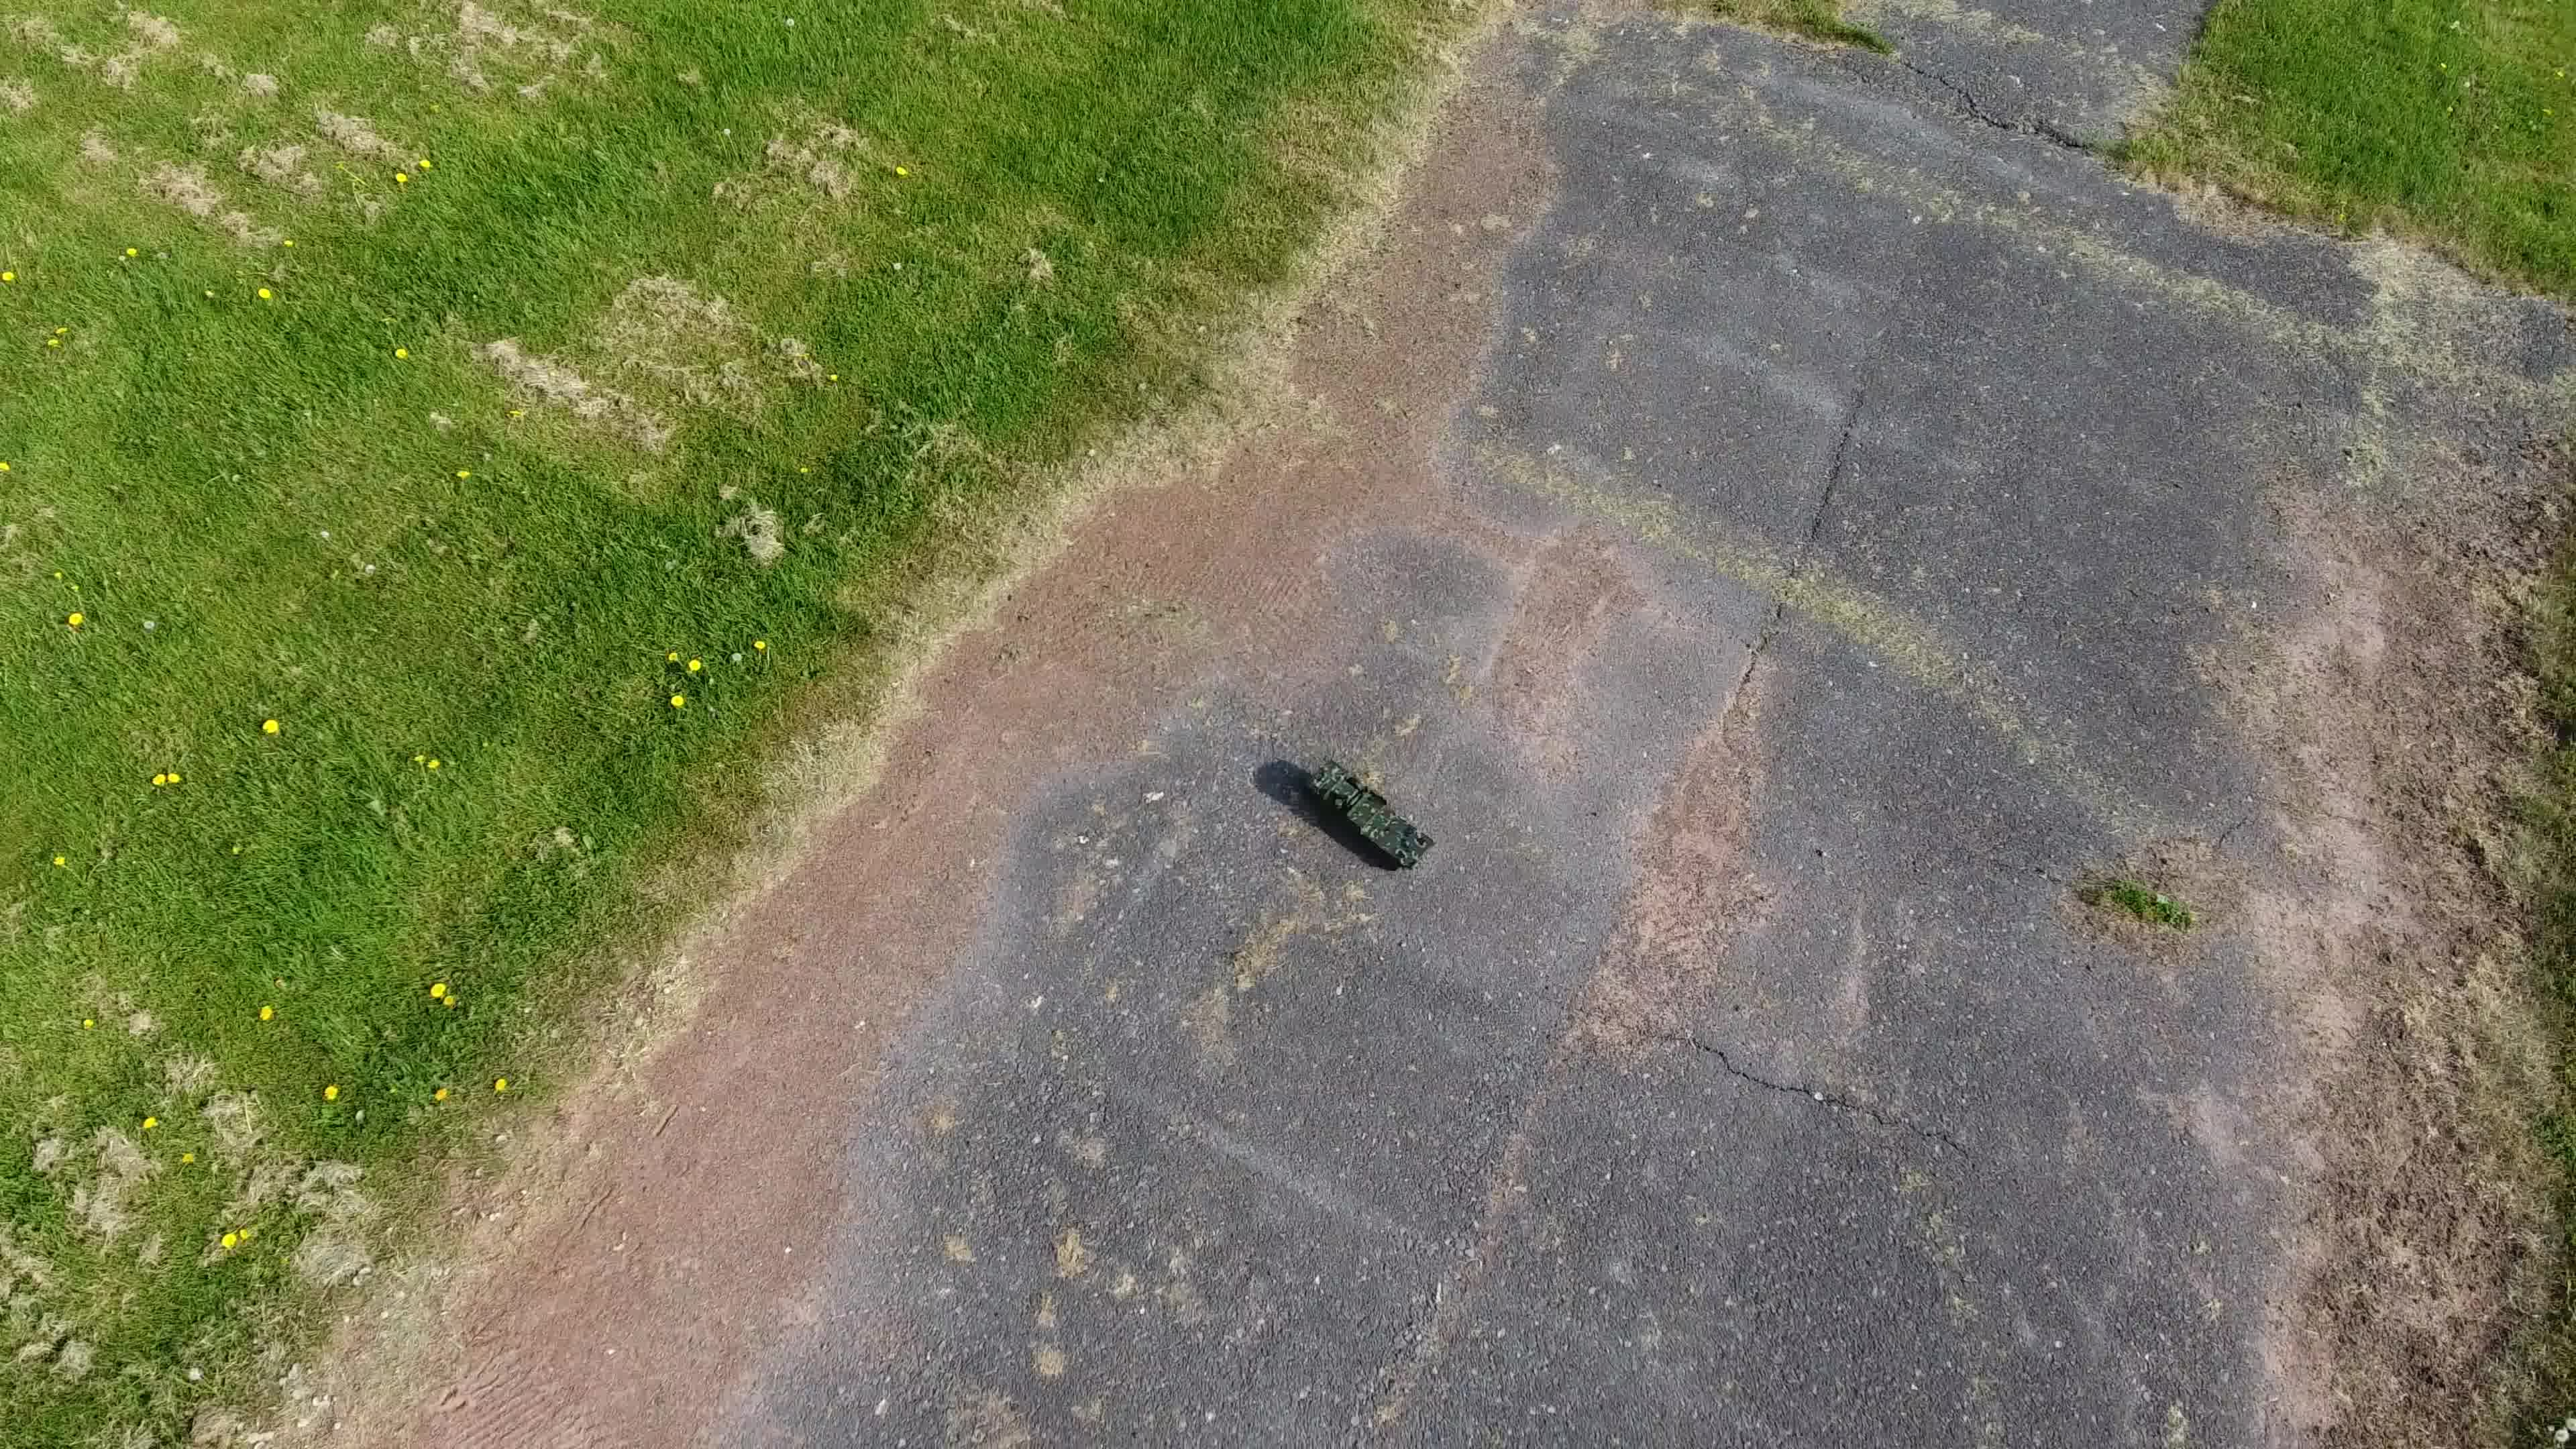transporter9_camo: (1302, 757, 1440, 876)
